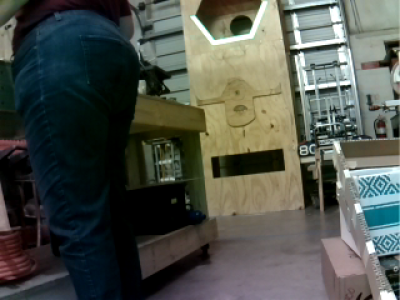target: (189, 1, 268, 46)
